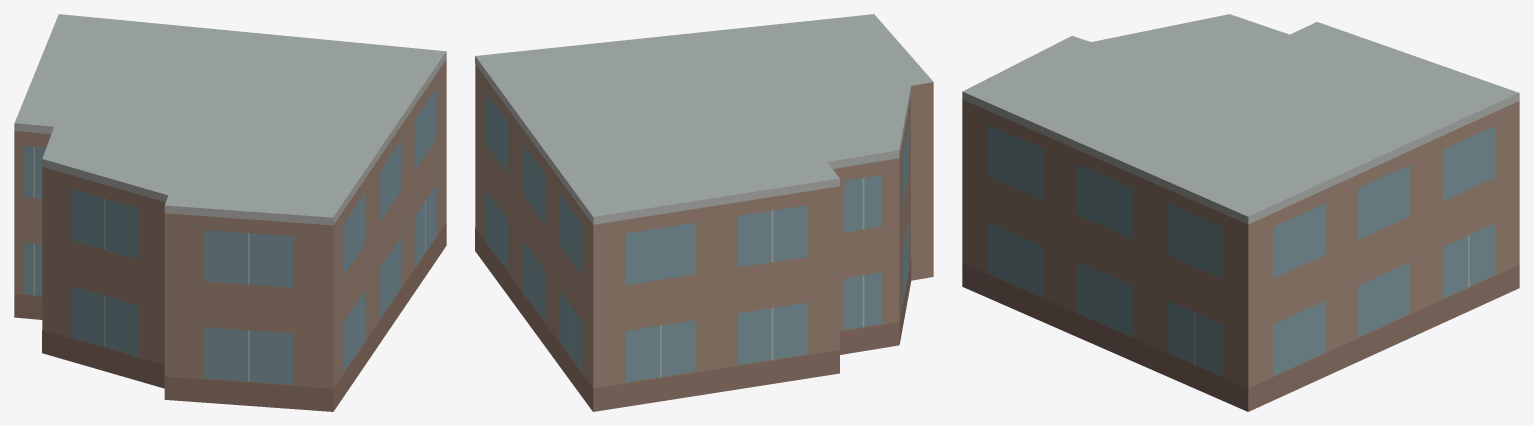
Rendered from survey-upis-32911399.glb.
3 renders of one model, left to right at view 1: azimuth 30°, elevation 25°; view 2: azimuth 150°, elevation 25°; view 3: azimuth 270°, elevation 25°, orthographic.
Visible parts, largest first — view 1: survey-upis-32911399.tmp; view 2: survey-upis-32911399.tmp; view 3: survey-upis-32911399.tmp.
Part boxes in pixels (x1,y1,x2,y2): survey-upis-32911399.tmp: (14,14,446,411); survey-upis-32911399.tmp: (475,14,933,411); survey-upis-32911399.tmp: (962,14,1519,411).
Bounding box in the file's own units: 13.6 × 6.1 × 15.8.
